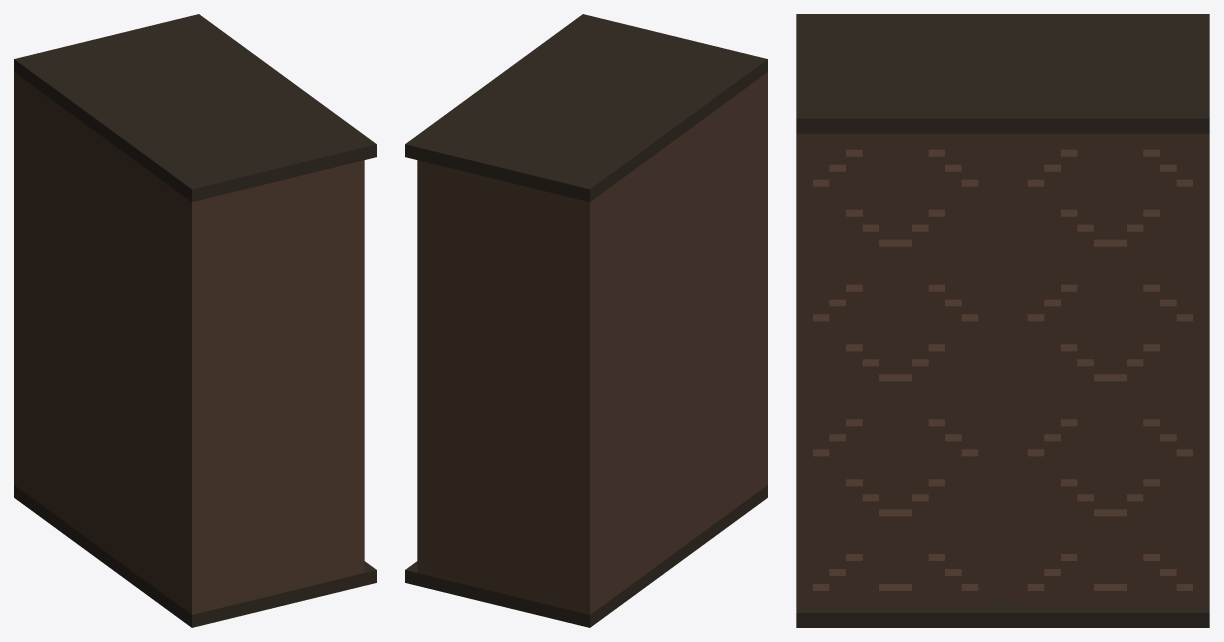
File: SKAF.obj
The picture shows the model from 3 angles, left to right: view 1: azimuth 30°, elevation 25°; view 2: azimuth 150°, elevation 25°; view 3: azimuth 270°, elevation 25°; orthographic projection. The views are drawn at different scales.
Visible parts, largest first — view 1: Untitled; view 2: Untitled; view 3: Untitled.
Part boxes in pixels (x1,y1,x2,y2): Untitled: [14, 14, 376, 627]; Untitled: [405, 14, 767, 627]; Untitled: [796, 14, 1209, 627].
Size of the model in its own units: 1.5 by 3.4 by 2.5.
1 material, 1 textured.
